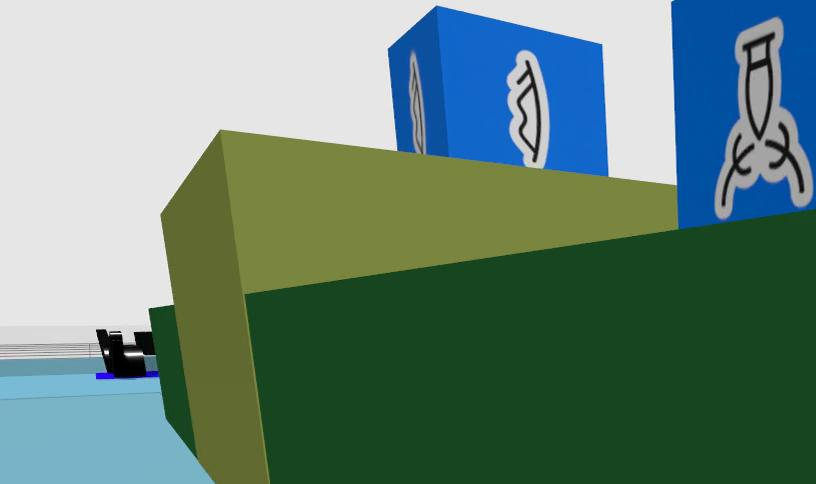KFS_REAL: (389, 6, 607, 174), (671, 0, 816, 226), (713, 18, 813, 219), (507, 50, 549, 168), (742, 34, 776, 140), (409, 51, 427, 153)
